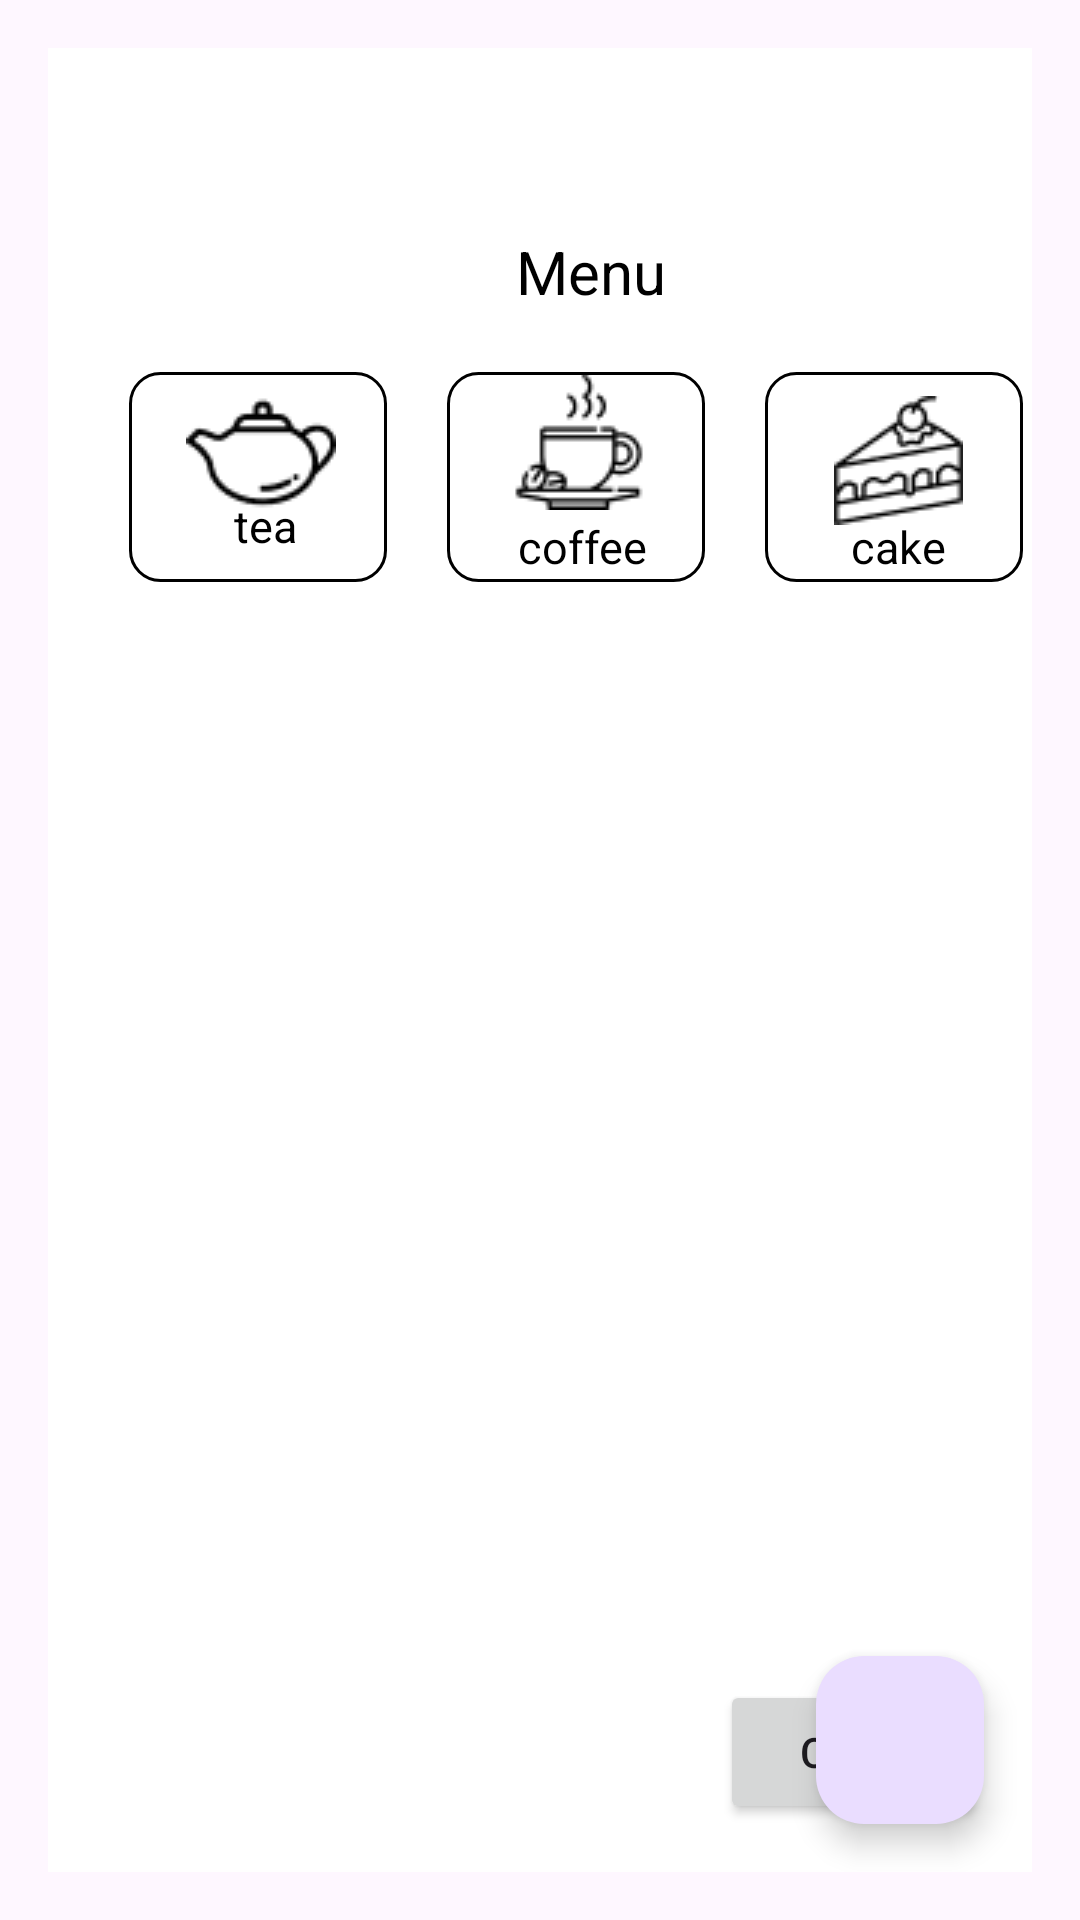

Where icons sit on this 1080px×1920px app screen, as (x1, y1, x2, y2):
teapot: (186, 399, 336, 507)
